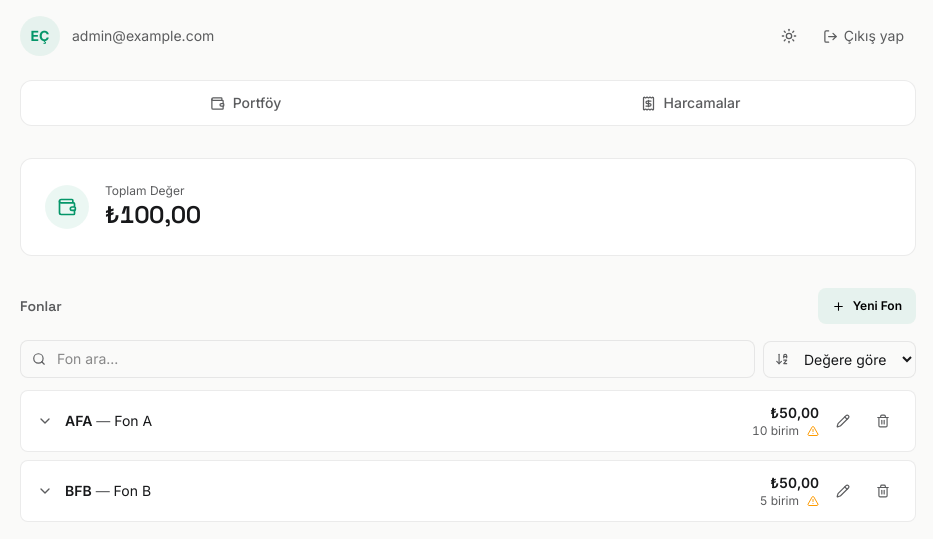
Scenario: AdminDashboard › filters the fund list by search query
The image size is (933, 539).
Check: the text "AFA" is shown, box [65,412,92,429]
Check: the text "BFB" is shown, box [65,482,92,499]
Type "AFA" into the field with placeholder "Fon ara..." at {"x": 388, "y": 359}, box [20,340,755,378]
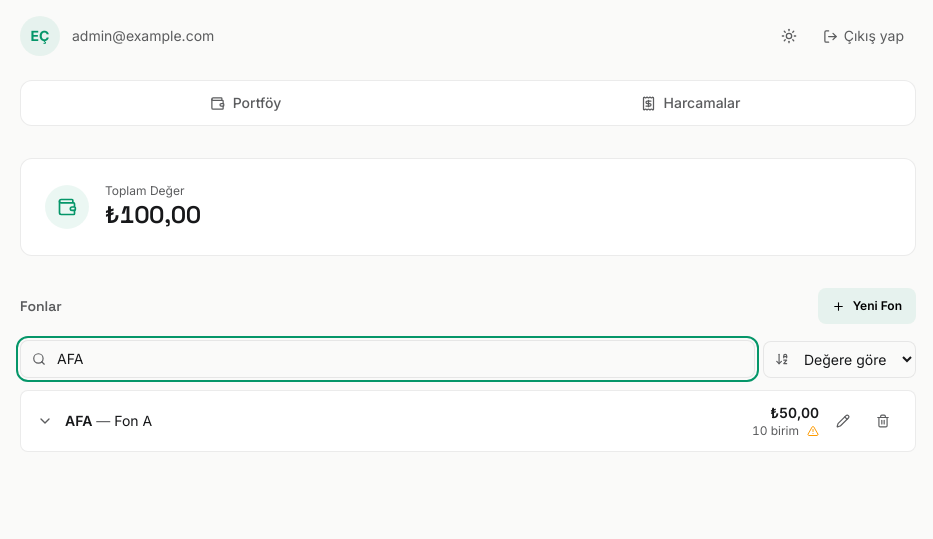
Check: the text "AFA" is shown, box [65,412,92,429]
Check: the button "BFB" is gone
